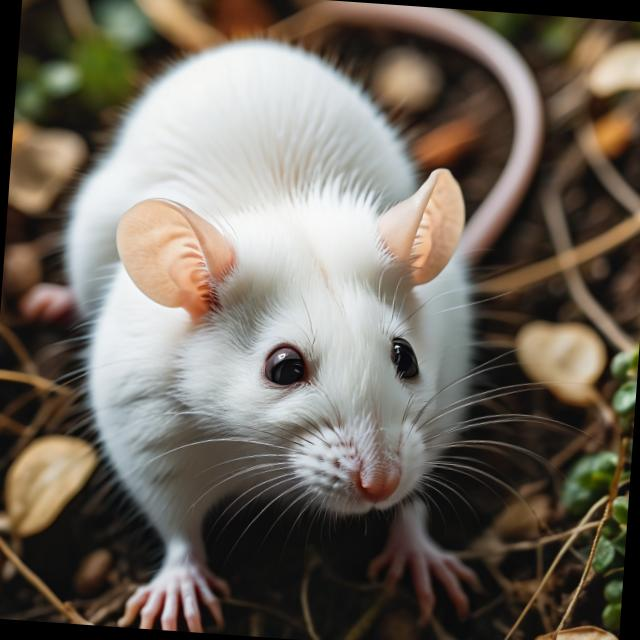rodents: (5, 14, 517, 564)
